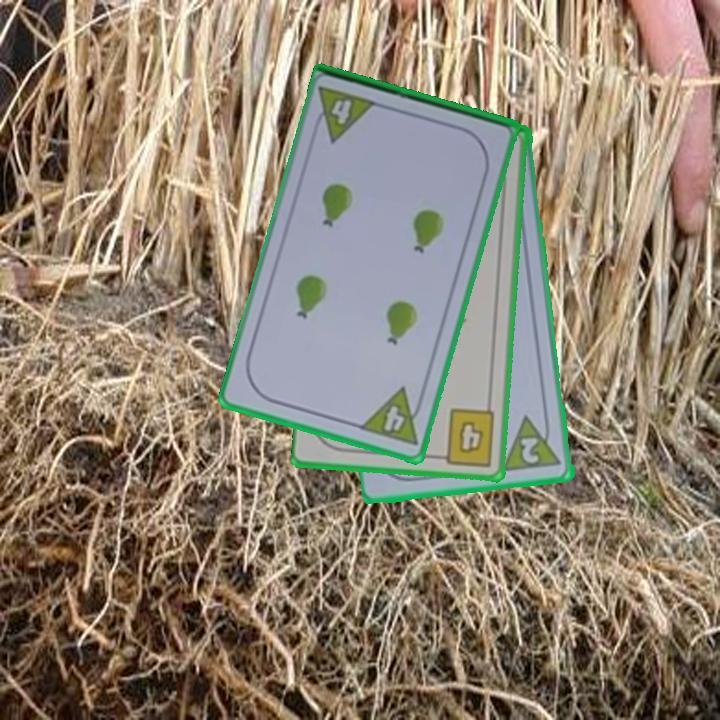2p: (500, 410, 565, 475)
4b: (433, 405, 498, 469)
4p: (356, 384, 429, 449), (308, 83, 381, 145)
